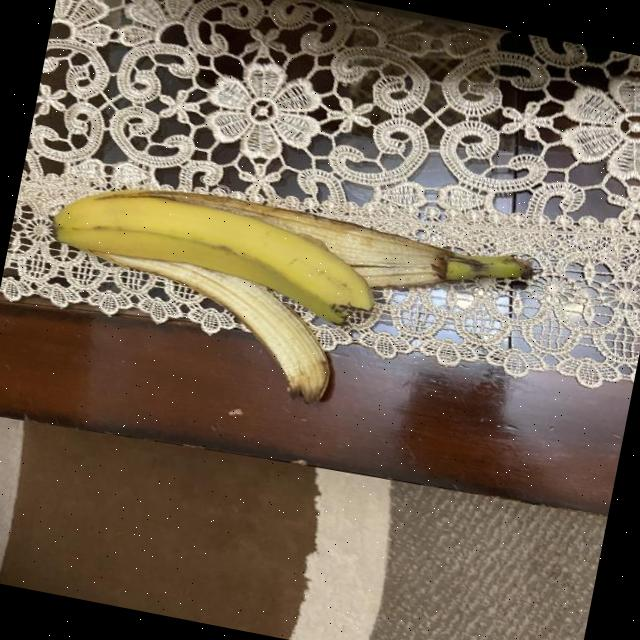banana-peel: (25, 160, 537, 440), (42, 172, 388, 332), (71, 244, 348, 406)
